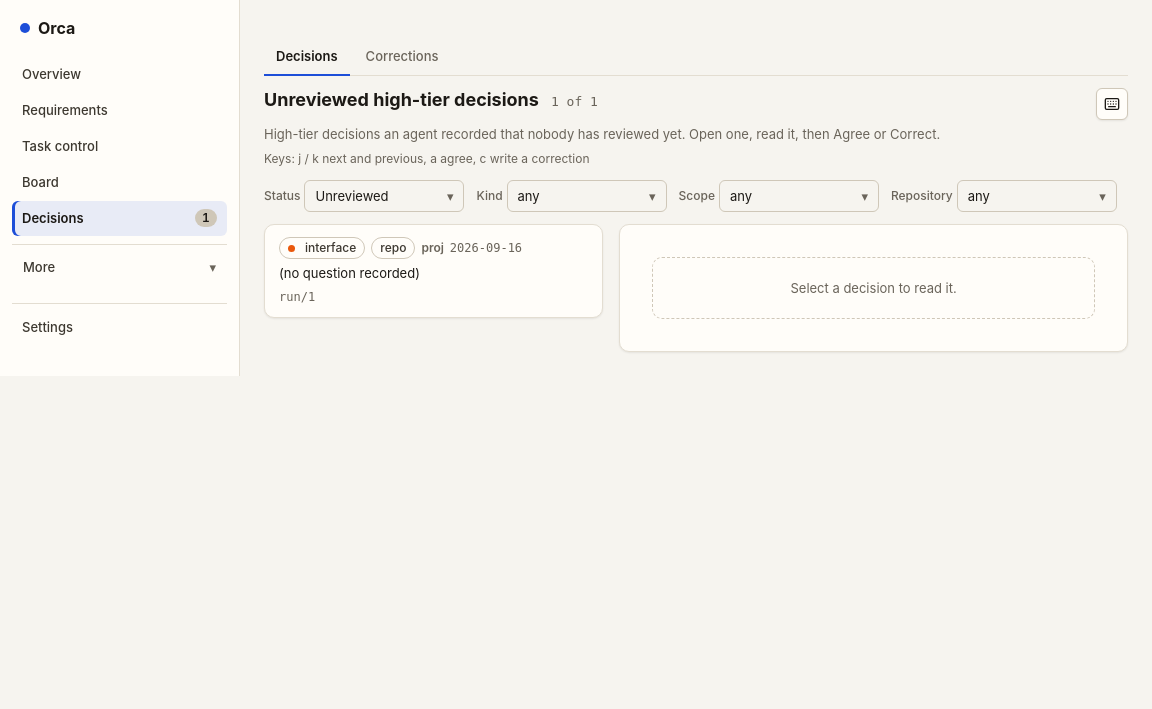
Test: the Decisions page's Corrections toggle and the record's open (Task 13 fix round 1) › the Corrections toggle shows the list inside the Decisions page, pressed
Click the button "interface repo proj 2026-09-16 (no question recorded) run/1" at (322, 248), box [265,225,602,317]
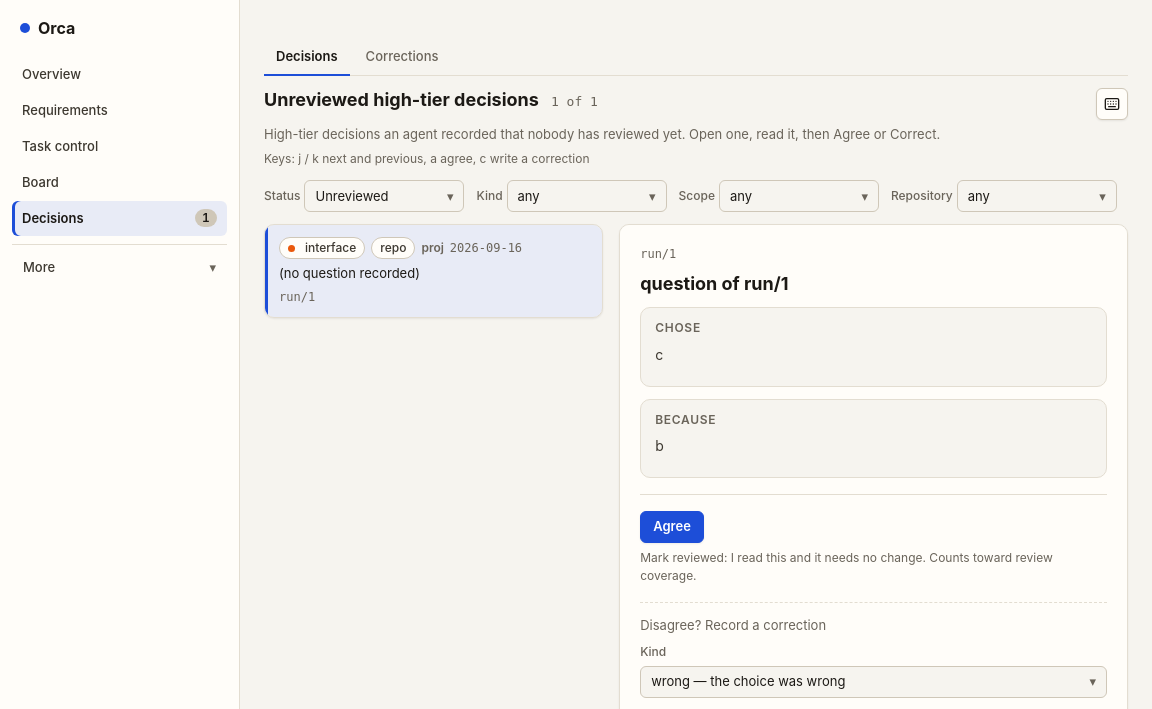
Expected: the heading with test id "decision-question" reads "question of run/1", [640,273,788,294]
Click the button "Corrections" at (402, 58), box [354,40,450,76]
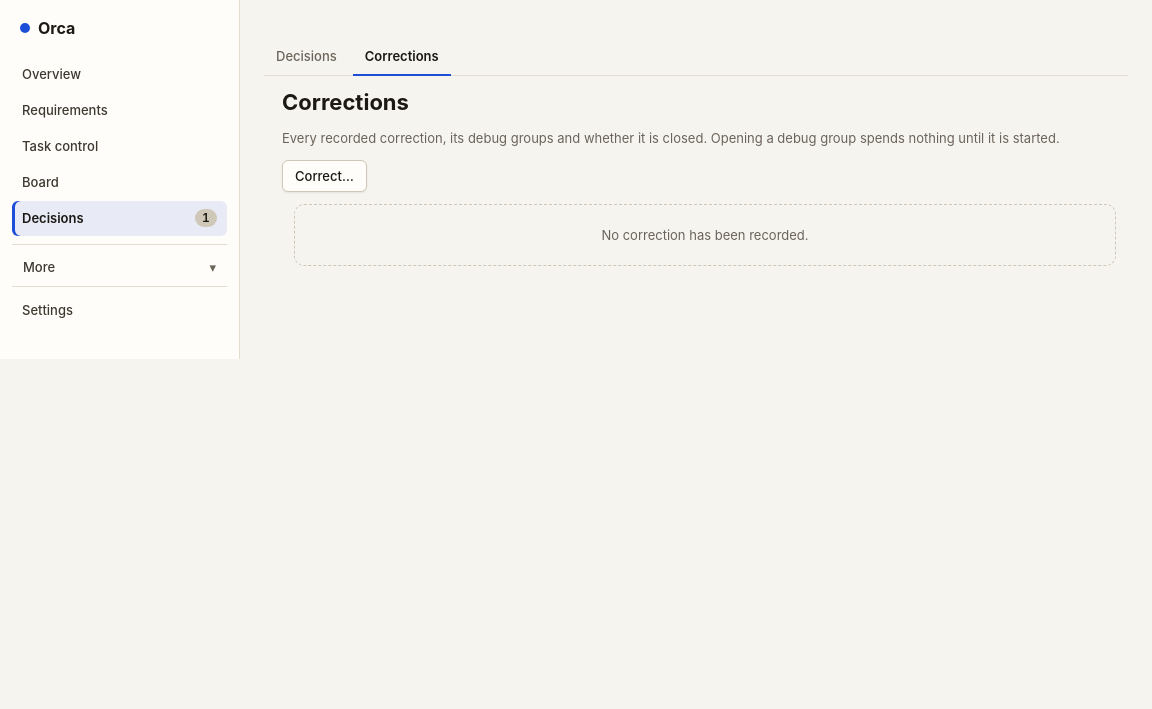
Expected: the element that starts with "Decisions" is shown, [264,40,1128,266]
Expected: the heading with test id "decision-question" is gone
Expected: the text "No correction has been recorded." is shown, [294,204,1116,266]
